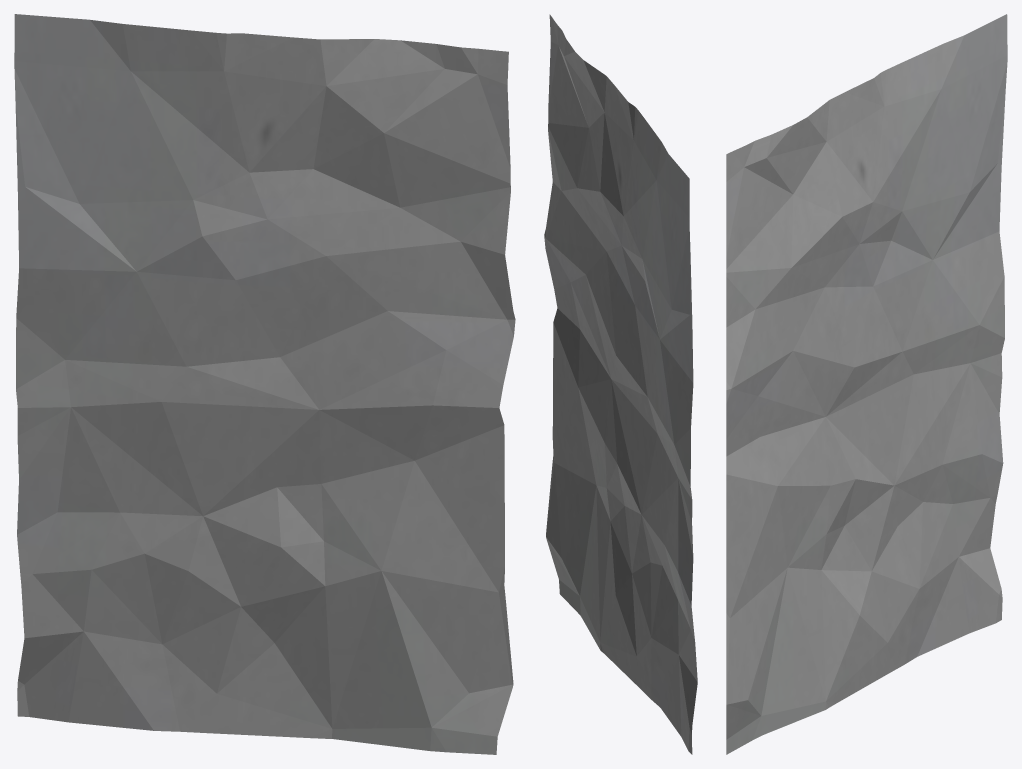
3 renders of one model, left to right at view 1: azimuth 30°, elevation 25°; view 2: azimuth 150°, elevation 25°; view 3: azimuth 270°, elevation 25°, orthographic. The views are drawn at different scales.
Bounding box in the file's own units: 0.4237 × 0.8374 × 0.3522.
Materials: 2 (2 with a texture image).
